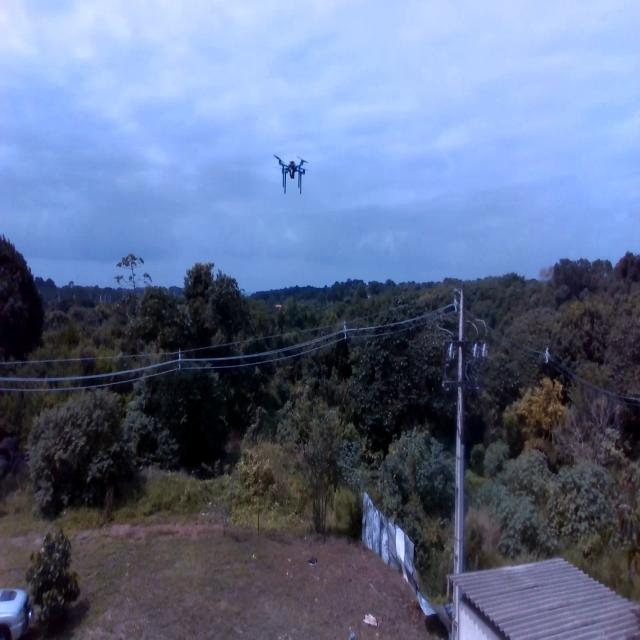-uav-: (268, 135, 314, 204)
